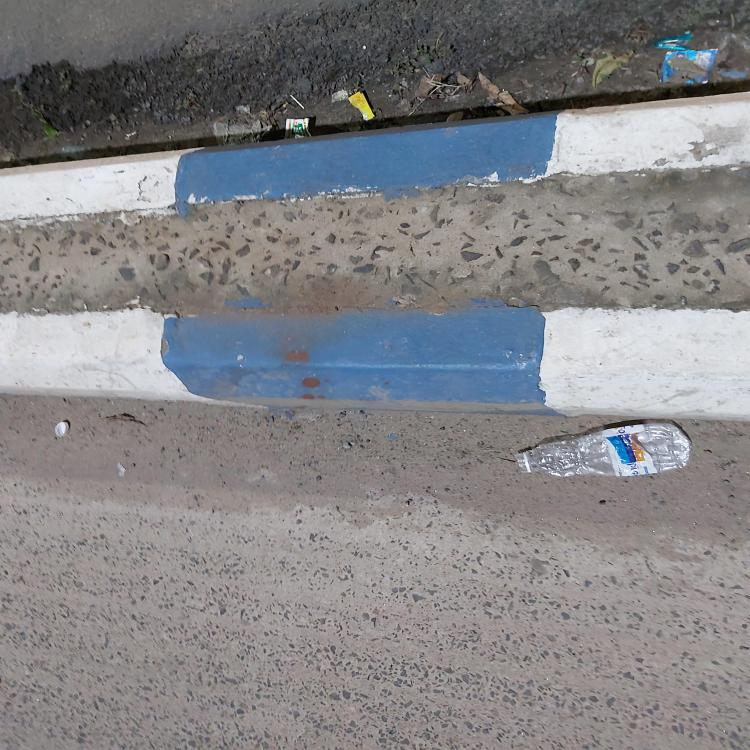Clear plastic bottle: (515, 424, 691, 478)
Other plastic: (660, 49, 716, 84), (347, 91, 375, 121), (650, 31, 692, 50), (284, 118, 310, 139)
Plastic bottle cap: (55, 422, 70, 437)
